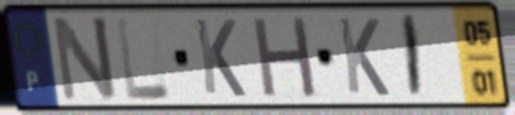H: (249, 13, 320, 101)
I: (401, 12, 424, 102)
K: (335, 15, 393, 100), (191, 16, 249, 100)
L: (113, 13, 174, 103)
N: (49, 12, 120, 105)
